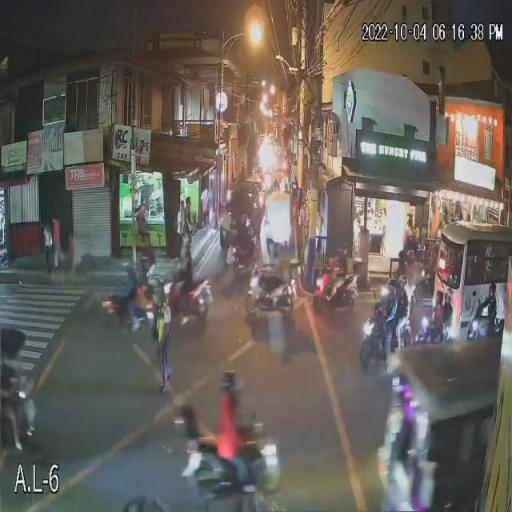helmet: (221, 370, 243, 392), (384, 276, 402, 292), (136, 252, 154, 268), (326, 252, 342, 266), (260, 252, 276, 266)
motorcycle: (173, 410, 282, 511), (359, 296, 414, 370), (0, 359, 39, 459), (99, 280, 154, 336), (244, 262, 296, 321), (166, 273, 212, 330), (312, 270, 358, 314), (412, 309, 455, 345), (459, 306, 498, 344), (224, 230, 252, 272)
rider: (216, 370, 258, 504), (174, 404, 216, 479), (375, 275, 404, 347), (115, 263, 146, 324), (172, 253, 198, 314), (253, 252, 284, 303), (318, 249, 344, 296), (472, 282, 498, 328), (430, 287, 454, 335), (228, 217, 251, 262)
